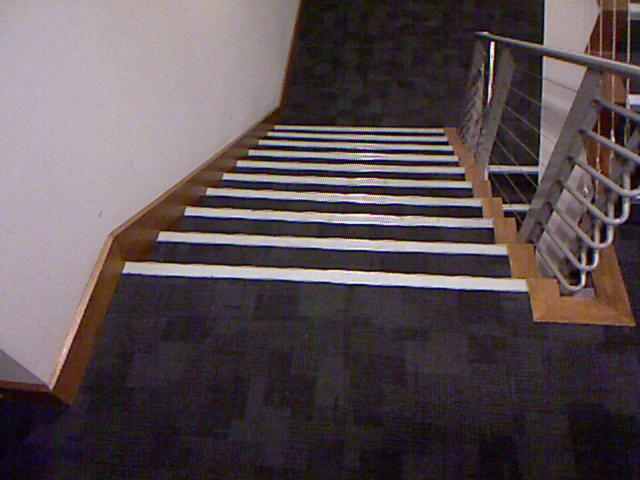Escaleras: (133, 121, 528, 305), (542, 8, 639, 276)
